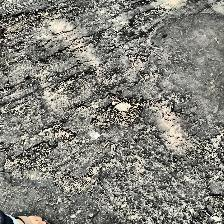pothole: (0, 8, 62, 44), (90, 94, 146, 130), (46, 123, 76, 139), (29, 140, 52, 156), (126, 53, 148, 69)
